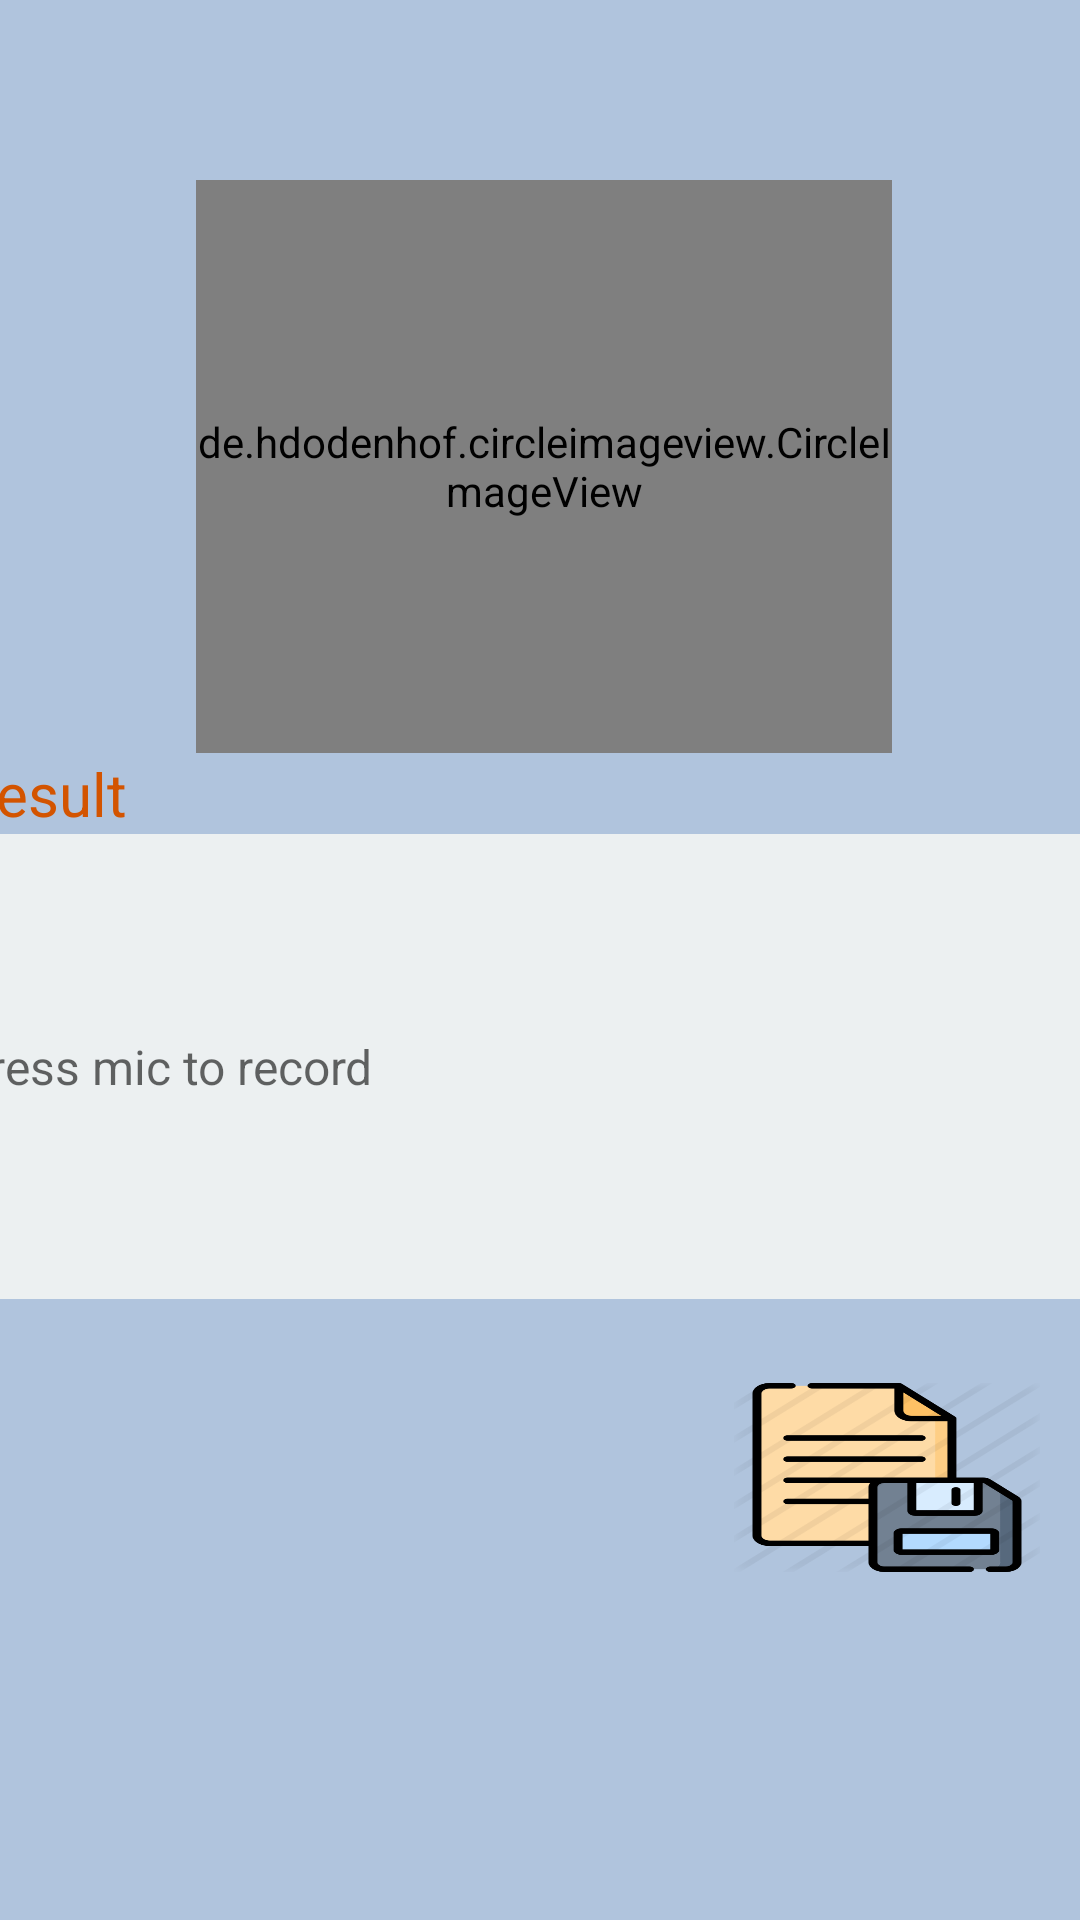

Icon bounding boxes for this 1080*1920 phone screenshot, format (x1, y1, x2, y2):
save: (752, 1383, 1022, 1572)
